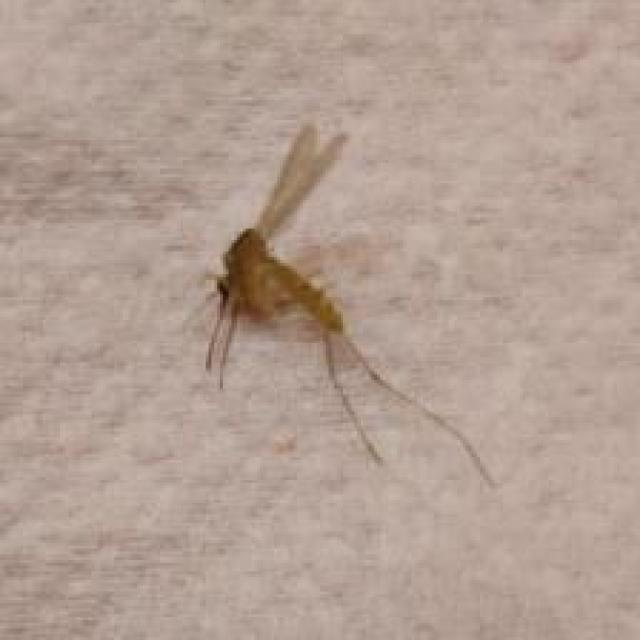Culex: (187, 119, 502, 490)
